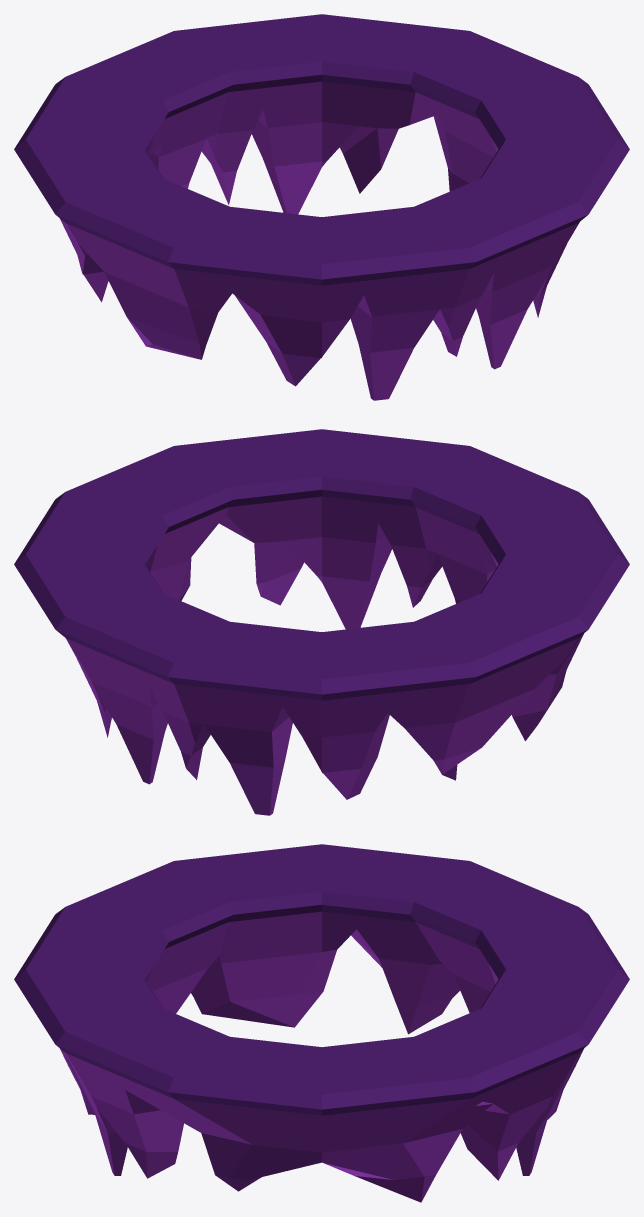
File: FloatingIsland1.fbx
The picture shows the model from 3 angles, top to bottom: view 1: azimuth 30°, elevation 25°; view 2: azimuth 150°, elevation 25°; view 3: azimuth 270°, elevation 25°; orthographic projection.
Visible parts, largest first — view 1: Circle.002; view 2: Circle.002; view 3: Circle.002.
Part boxes in pixels (<box>): Circle.002: <box>14,14,629,400</box>; Circle.002: <box>14,429,629,815</box>; Circle.002: <box>14,844,629,1202</box>.
Bounding box in the file's own units: 9115 × 2773 × 9115.
